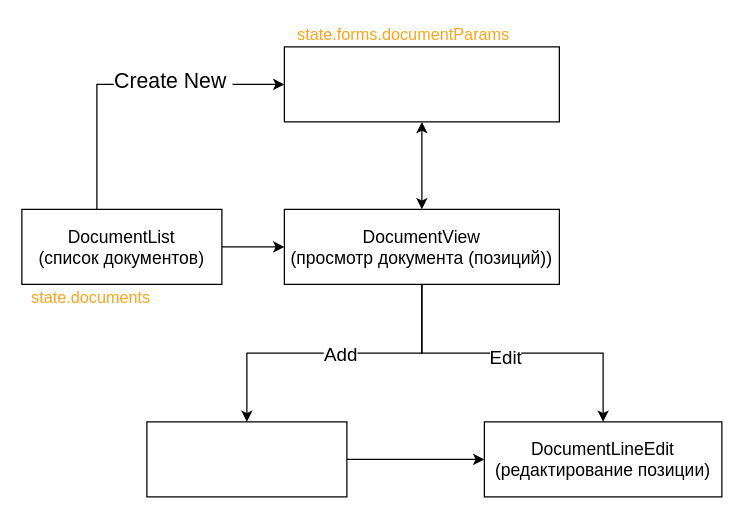
Image size: 744x519. Some labels were removed from this diagram. Each missing label, with the centre of its shape:
DocumentEdit (редактирование полей шапки): point (421, 84)
GoodList (выбор товаров): point (246, 459)
